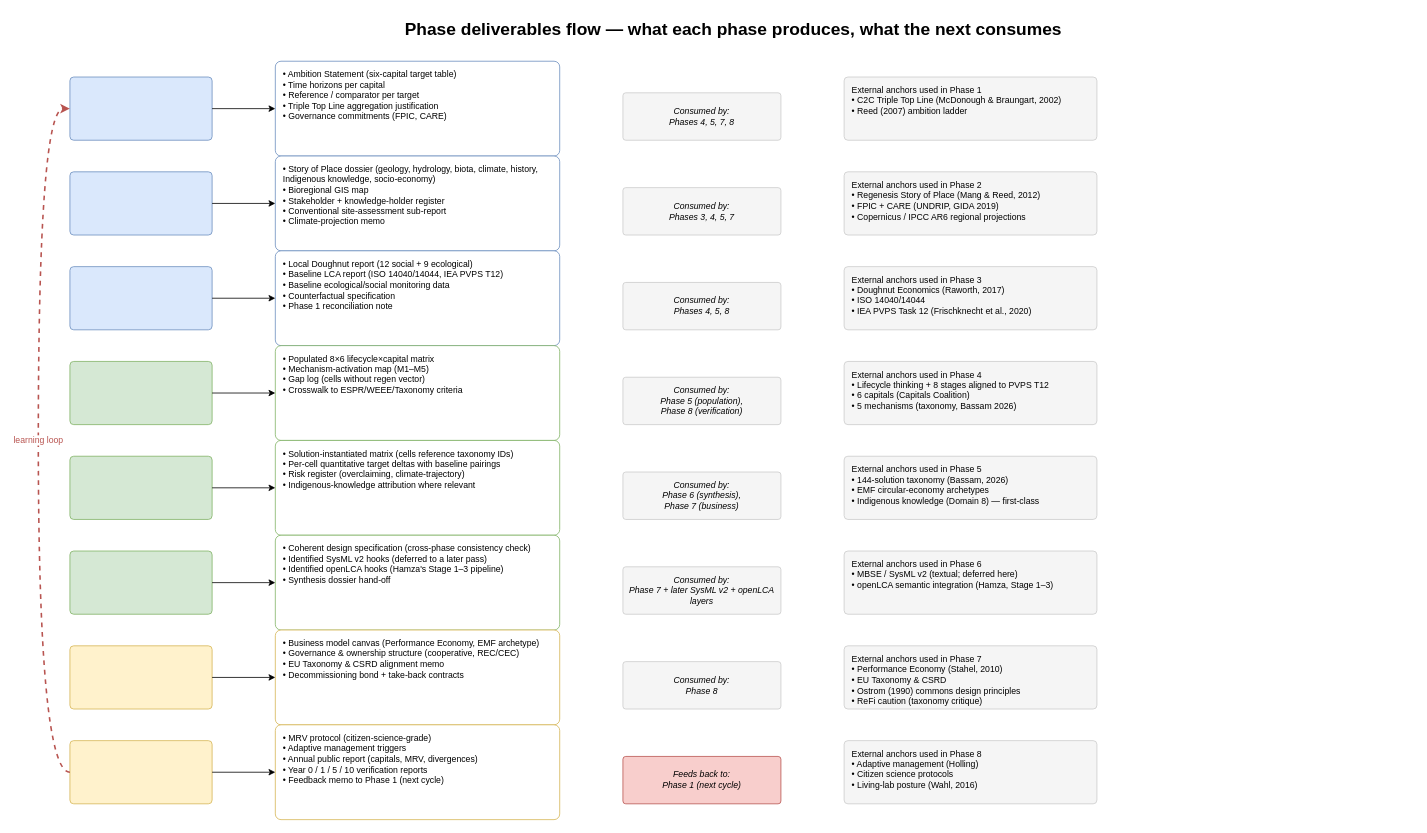
The diagram is 1427 pixels wide and 833 high, and some of its shapes have lost their labels. The shapes that lost their labels are listed below. From the top down, each one's centre as x and y in pixels, then its label:
point (140, 108): Phase 1 Frame ambition
point (140, 203): Phase 2 Read the place
point (140, 298): Phase 3 Diagnose state
point (140, 393): Phase 4 Map lifecycle
point (140, 487): Phase 5 Pick solutions
point (140, 582): Phase 6 Synthesize
point (140, 677): Phase 7 Business model
point (140, 772): Phase 8 Implement & learn
